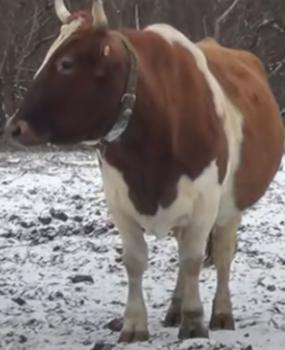cow: (6, 16, 283, 341)
